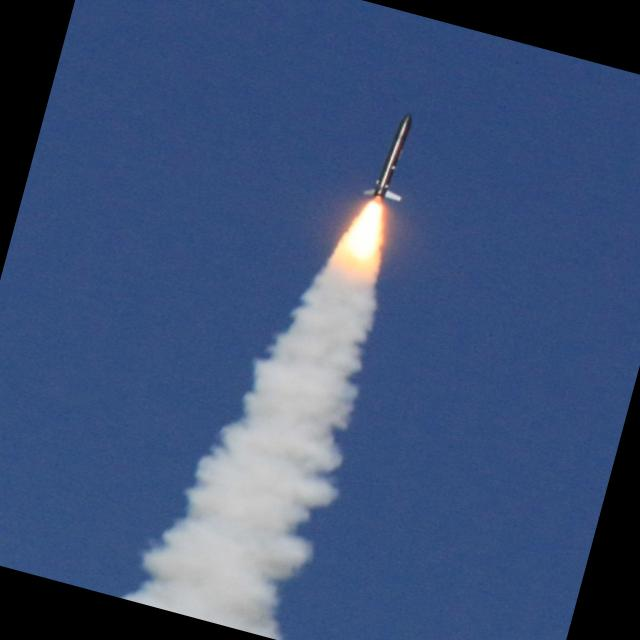rocket: (269, 93, 440, 377)
